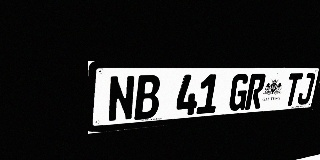1: (196, 74, 220, 114)
4: (175, 74, 200, 116)
B: (134, 75, 161, 120)
G: (228, 74, 250, 111)
J: (296, 73, 316, 105)
N: (107, 75, 135, 122)
R: (245, 74, 267, 110)
T: (283, 73, 303, 106)
